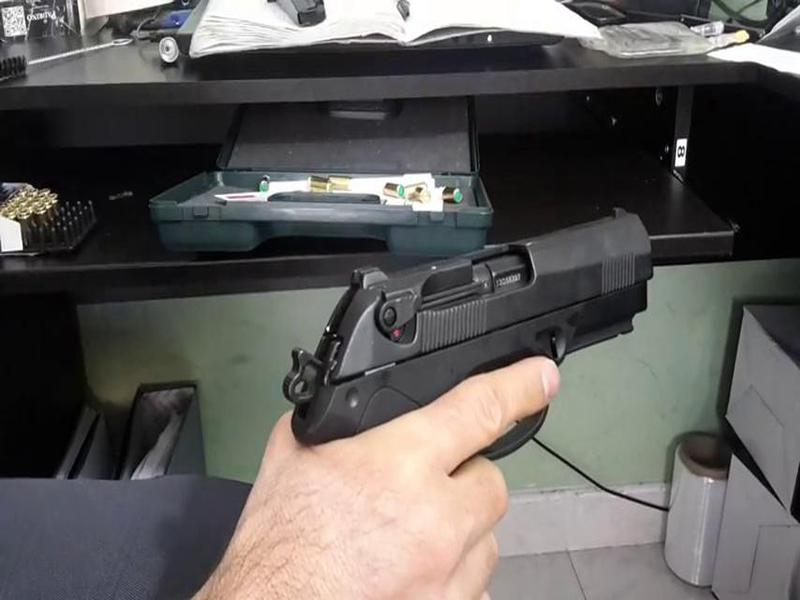Pistola: (286, 202, 665, 475)
